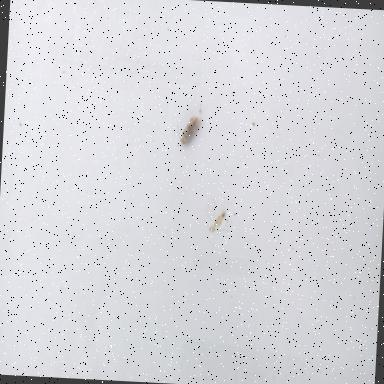pbw: (176, 114, 199, 145)
